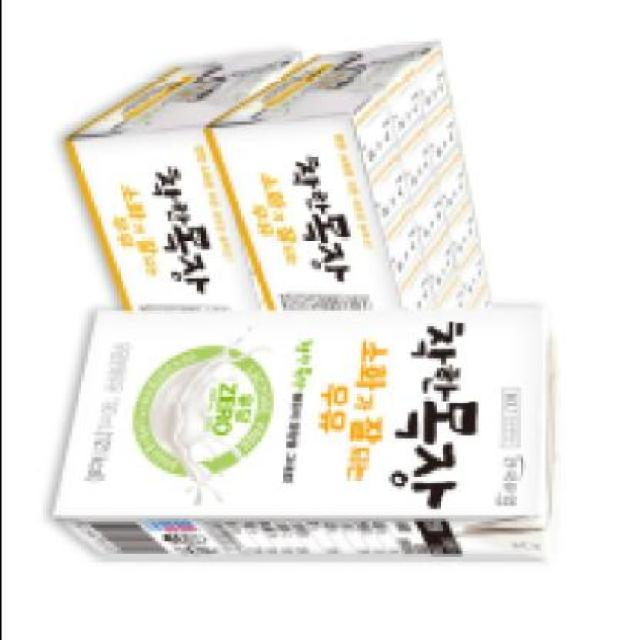tetra: (28, 288, 582, 595)
